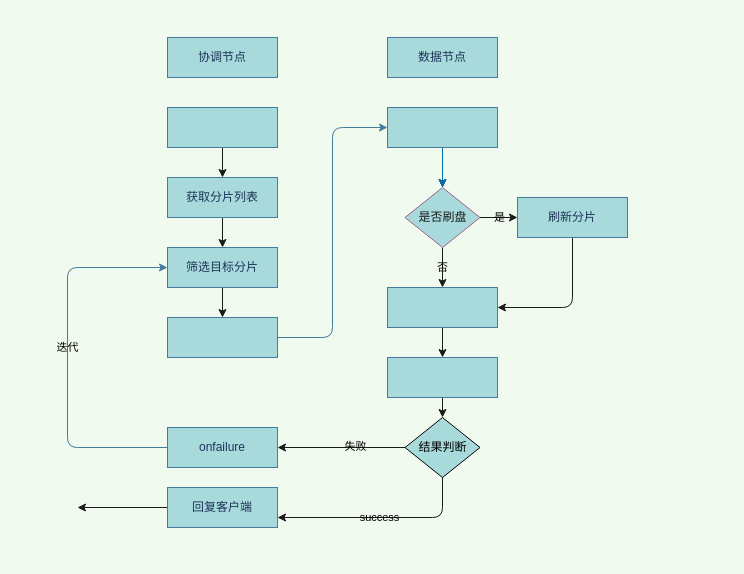
Some shapes in this 744 by 574 pixel diagram are drawn without their labels. The shapes that lost their labels are listed below. From the top down, each one's centre as x and y in pixels, then its label:
(222,127): 获取集群状态
(442,127): 请求接收器
(442,307): engine getresult
(222,337): 组装request
(442,377): getresult
